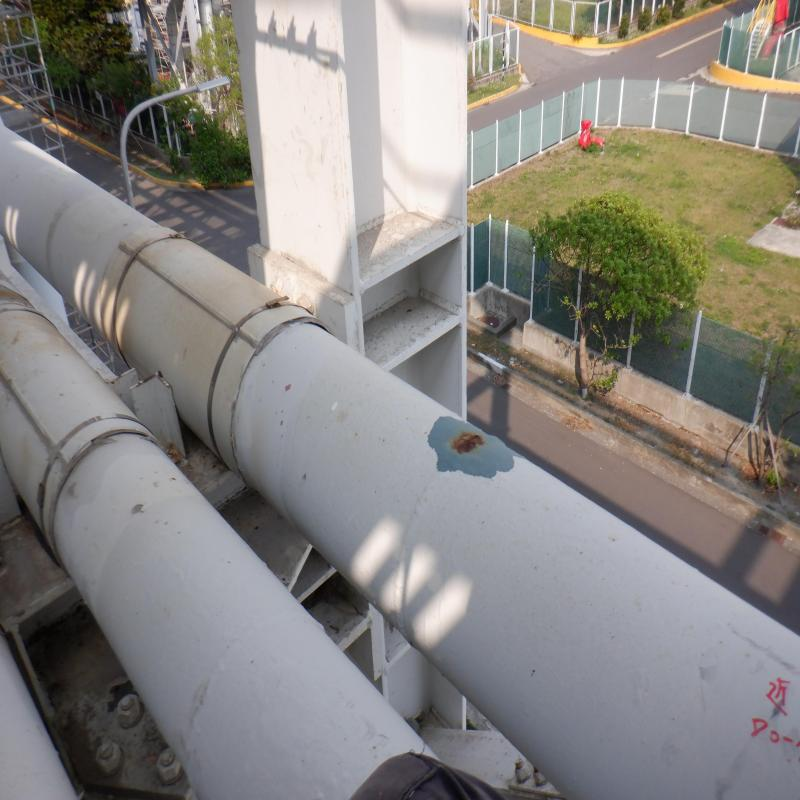corrosion: (458, 426, 481, 463)
